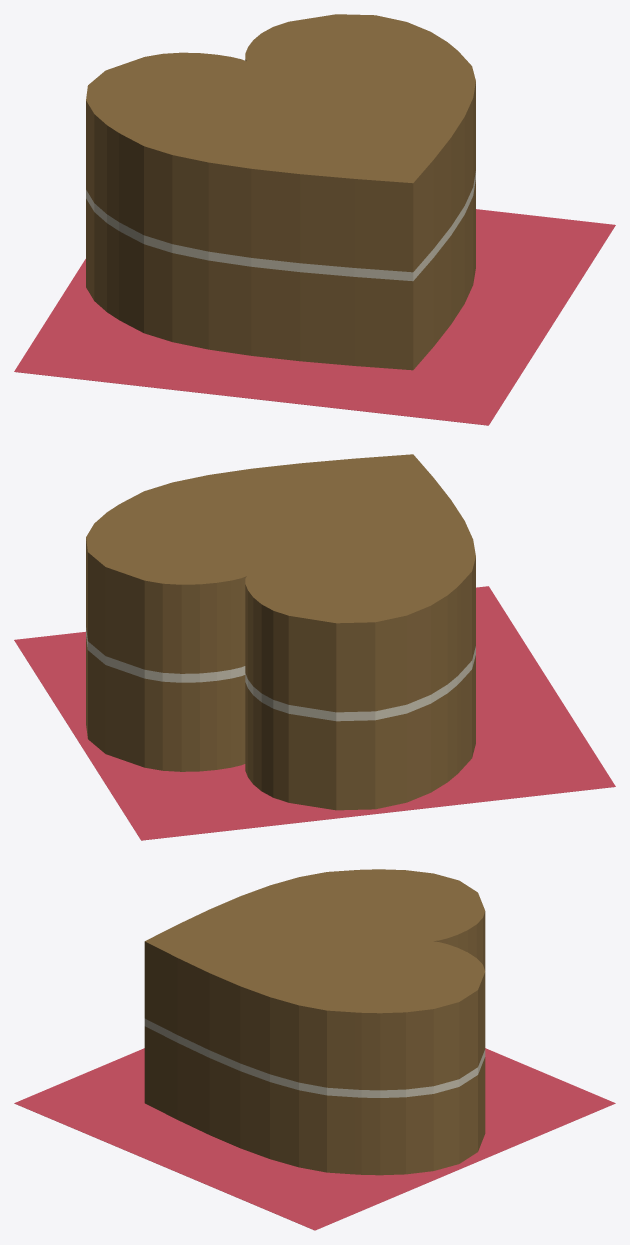
Rendered from CVC.glb.
3 views of the same model, one above another, from view 1: azimuth 30°, elevation 25°; view 2: azimuth 150°, elevation 25°; view 3: azimuth 270°, elevation 25° (orthographic). The views are drawn at different scales.
Parts seen in each view (by area): view 1: Mesh_Mesh_head_geo.001_lambert2SG.001; view 2: Mesh_Mesh_head_geo.001_lambert2SG.001; view 3: Mesh_Mesh_head_geo.001_lambert2SG.001.
Boxes of the visible parts, x1,y1,x2,y2 form: Mesh_Mesh_head_geo.001_lambert2SG.001: (14, 14, 615, 425); Mesh_Mesh_head_geo.001_lambert2SG.001: (14, 454, 615, 840); Mesh_Mesh_head_geo.001_lambert2SG.001: (14, 869, 615, 1230).
Size of the model in its own units: 0.0354 by 0.0105 by 0.0354.
